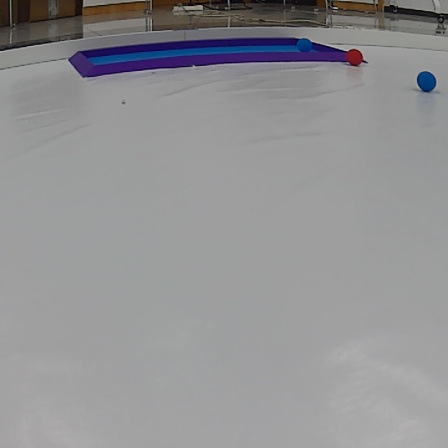blue: (413, 69, 440, 95), (294, 37, 315, 55)
blue_aim: (66, 41, 344, 67)
red: (345, 45, 365, 66)
